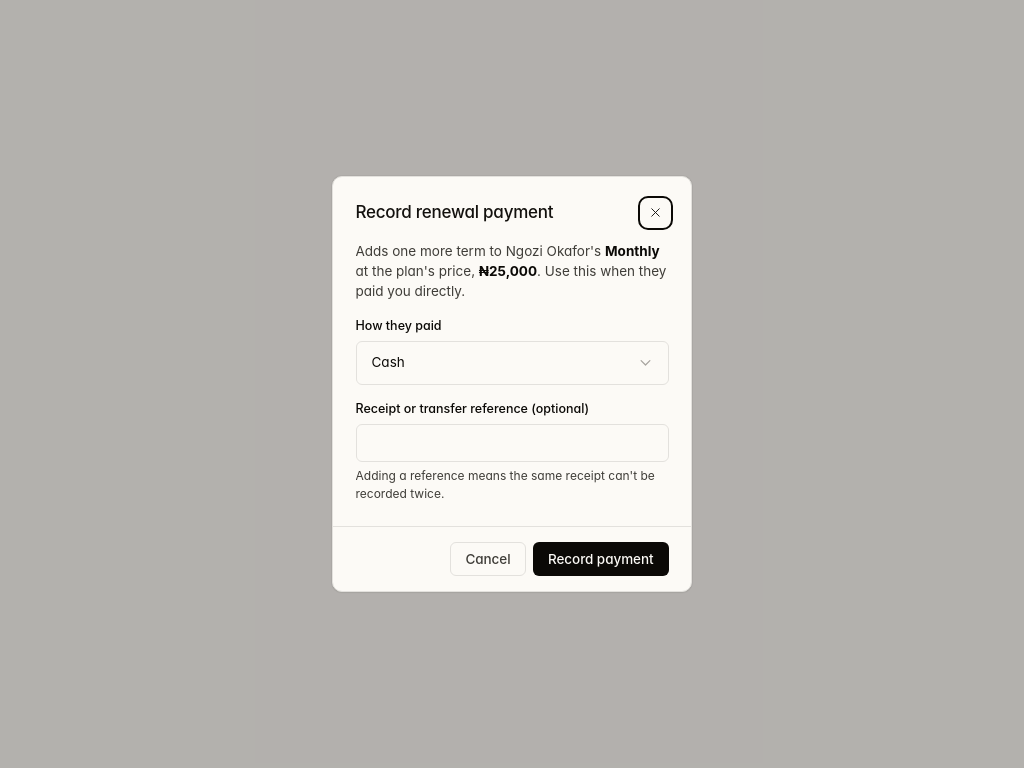
Record renewal payment (gym staff) › shows the API's refusal
This screenshot has width=1024, height=768.
Click the button "Record payment" at (601,559), box [533,542,668,576]
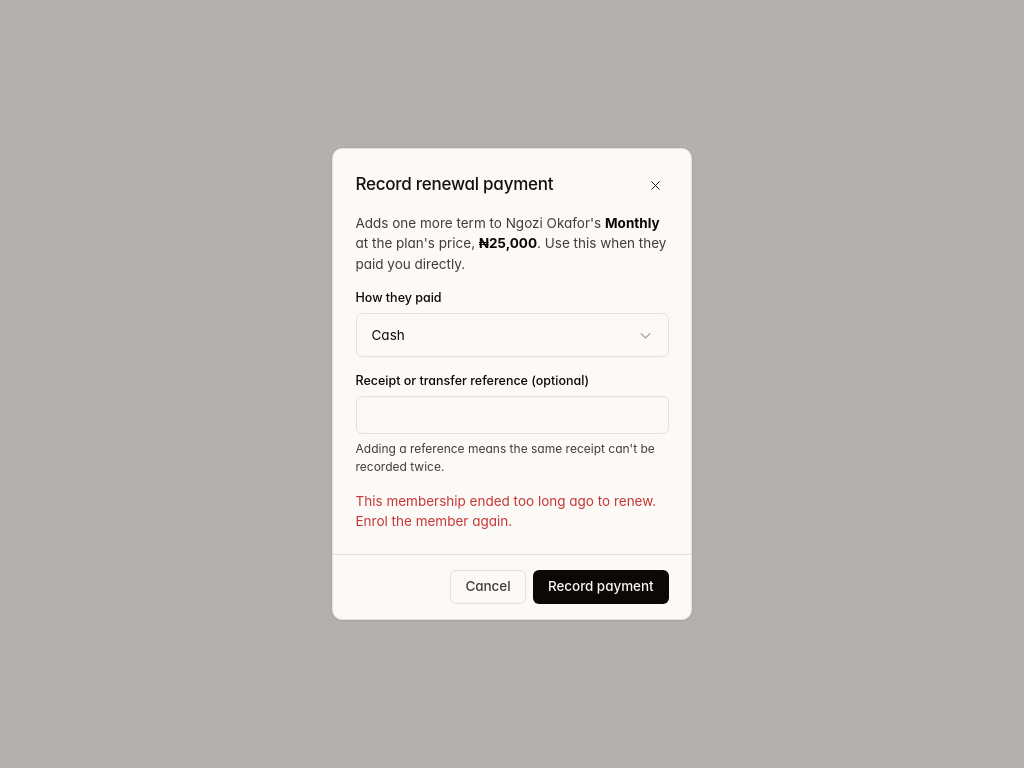
Now the message shows "ended too long ago", box [356,493,656,529]
